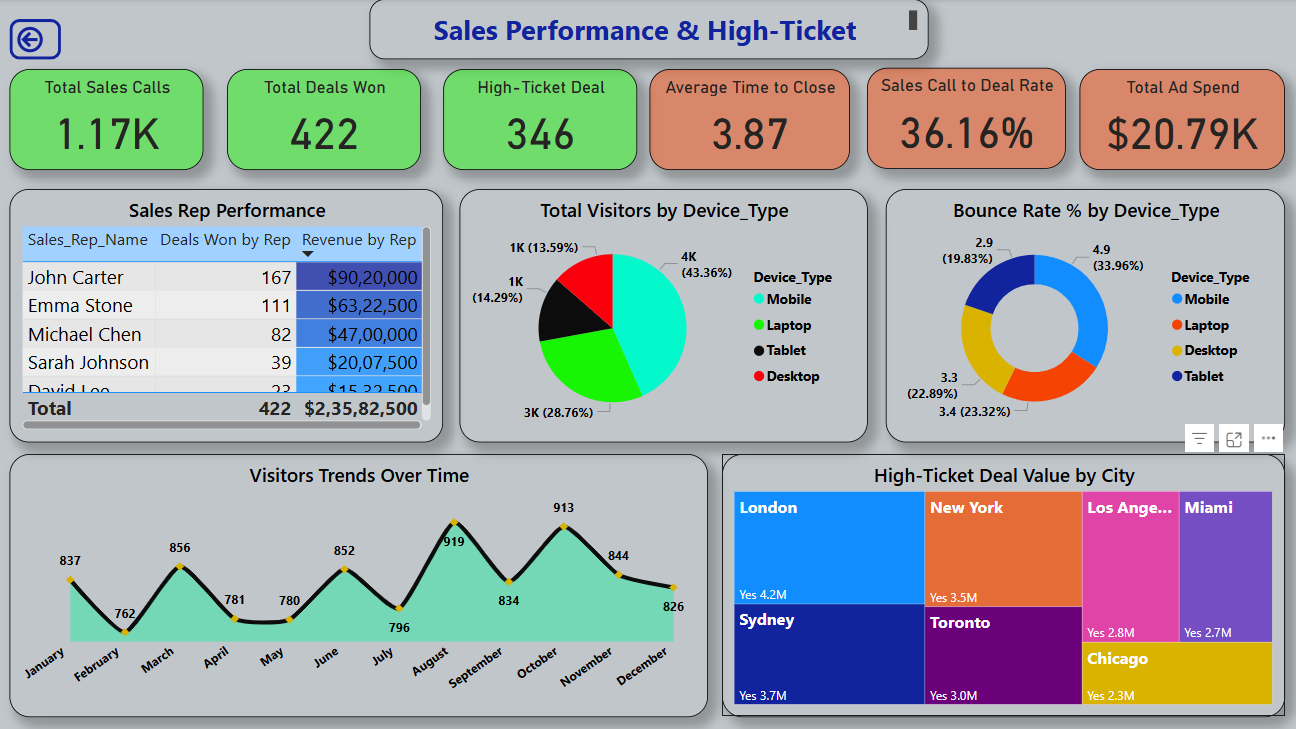

This screenshot's page, from the dashboard's own definition file:
{"tool":"powerbi","page":{"name":"Duplicate of Campaign Performance & Funnel Metrics","canvas":[1280,720],"ordinal":5},"visuals":[{"type":"textbox","box":[365.6,0,548.9,59.1],"z":0},{"type":"card","title":"Total Ad Spend","fields":{"Values":["campaign_aggregates.Total Ad Spend"]},"box":[1062.9,68.8,201.5,98.9],"z":1000},{"type":"card","title":"Total Sales Calls","fields":{"Values":["engagement_funnel.Total Sales Calls"]},"box":[12.1,68.8,190.6,98.9],"z":2000},{"type":"card","title":"Total Deals Won","fields":{"Values":["engagement_funnel.Total Deals Won"]},"box":[225.6,68.8,190.6,98.9],"z":3000},{"type":"card","title":"High-Ticket Deal","fields":{"Values":["engagement_funnel.High-Ticket Deal Volume"]},"box":[437.9,68.8,190.6,98.9],"z":4000},{"type":"card","title":"Average Time to Close","fields":{"Values":["engagement_funnel.Average Time to Close"]},"box":[640.6,68.8,196.6,98.9],"z":5000},{"type":"card","title":"Sales Call to Deal Rate","fields":{"Values":["engagement_funnel.Sales Call to Deal Rate"]},"box":[854.2,67.6,195.4,98.9],"z":6000},{"type":"tableEx","title":"Sales Rep Performance","fields":{"Values":["engagement_funnel.Sales_Rep_Name","engagement_funnel.Deals Won by Rep","engagement_funnel.Revenue by Rep"]},"box":[12.1,187,425.9,248.5],"z":7000},{"type":"pieChart","fields":{"Category":["device_lookup.Device_Type"],"Y":["engagement_funnel.Total Visitors"]},"box":[453.6,187,400.5,248.5],"z":8000},{"type":"donutChart","fields":{"Y":["engagement_funnel.Bounce Rate %"],"Category":["device_lookup.Device_Type"]},"box":[872.3,187,392.1,248.5],"z":9000},{"type":"treemap","title":"High-Ticket Deal Value by City","fields":{"Values":["engagement_funnel.Deal_Value"],"Group":["location_lookup.Location_City"],"Details":["engagement_funnel.High_Ticket_Deal"]},"box":[711.8,446.4,552.5,258.2],"z":10000},{"type":"lineChart","title":"Visitors Trends Over Time","fields":{"Category":["DateTable.Date.Variation.Date Hierarchy.Month"],"Y":["engagement_funnel.Total Visitors"]},"box":[12.1,446.4,685.3,258.2],"z":11000},{"type":"actionButton","box":[12.1,19.3,50.7,39.8],"z":12000}]}

Visuals, with their boxes in screenshot pixels (x1, y1, x2, y2), scaled from the page's 1280x720 canvas onto the 1296x729 screenshot:
textbox: <bbox>370, 0, 926, 60</bbox>
"Total Ad Spend" card: <bbox>1076, 70, 1280, 170</bbox>
"Total Sales Calls" card: <bbox>12, 70, 205, 170</bbox>
"Total Deals Won" card: <bbox>228, 70, 421, 170</bbox>
"High-Ticket Deal" card: <bbox>443, 70, 636, 170</bbox>
"Average Time to Close" card: <bbox>649, 70, 848, 170</bbox>
"Sales Call to Deal Rate" card: <bbox>865, 68, 1063, 169</bbox>
"Sales Rep Performance" tableEx: <bbox>12, 189, 443, 441</bbox>
pieChart - device_lookup.Device_Type x engagement_funnel.Total Visitors: <bbox>459, 189, 865, 441</bbox>
donutChart - engagement_funnel.Bounce Rate % x device_lookup.Device_Type: <bbox>883, 189, 1280, 441</bbox>
"High-Ticket Deal Value by City" treemap: <bbox>721, 452, 1280, 713</bbox>
"Visitors Trends Over Time" lineChart: <bbox>12, 452, 706, 713</bbox>
actionButton: <bbox>12, 20, 64, 60</bbox>
